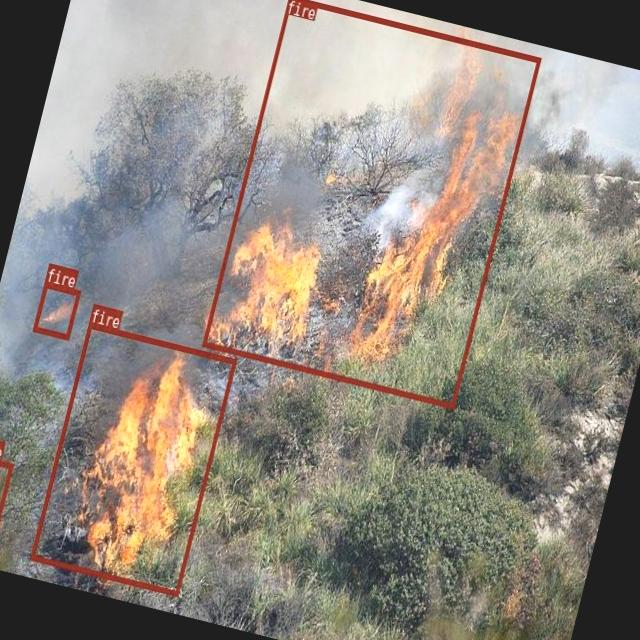fire: (200, 0, 540, 407), (29, 321, 236, 595), (32, 281, 80, 338), (0, 452, 13, 542)
